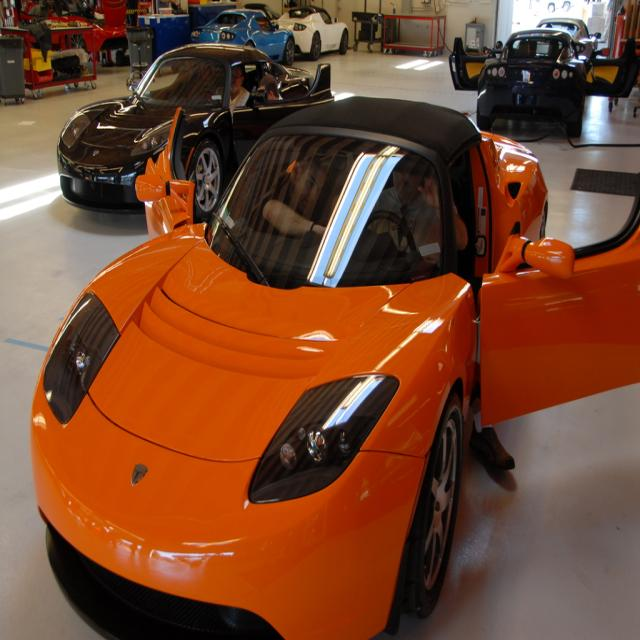car: (191, 6, 296, 65)
